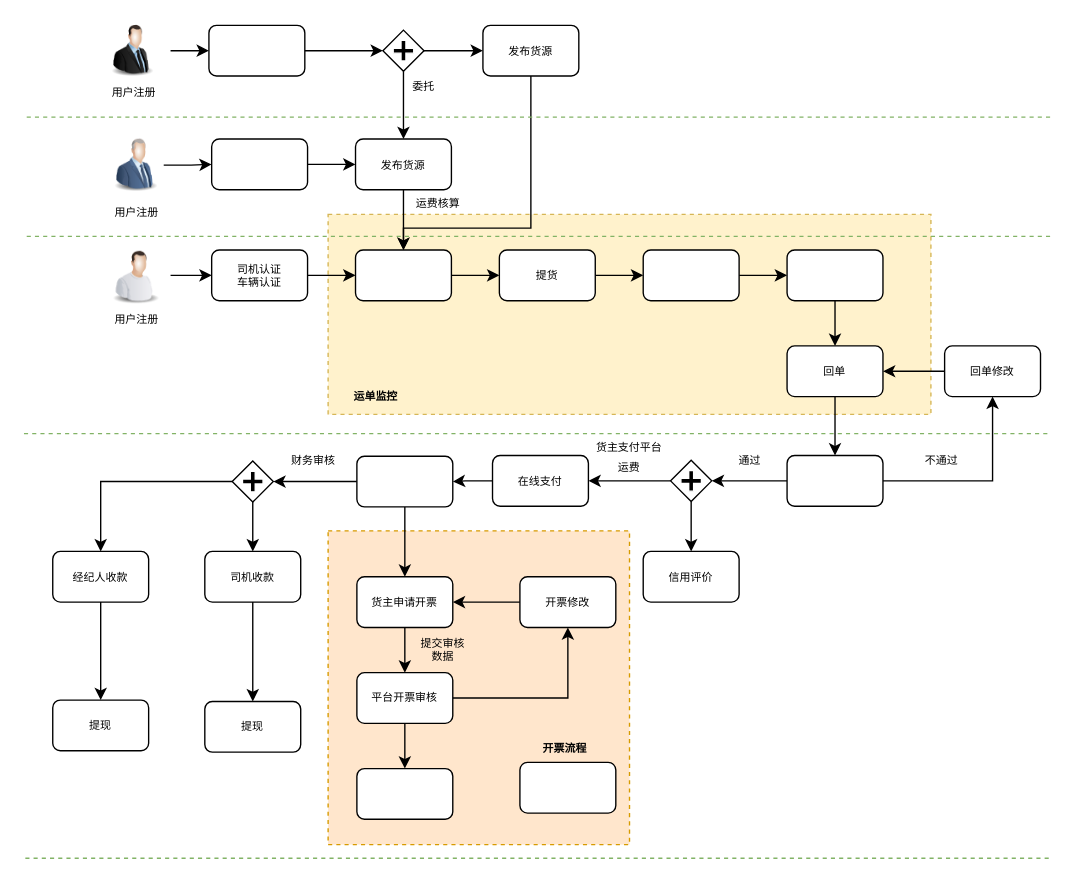
Some shapes in this 1080 by 884 pixel diagram are drawn without their labels. The box of each missing label's shape, as (x1, y1, x2, y2) in pixels:
企业货主认证: (208, 24, 305, 76)
司机接单: (354, 249, 451, 301)
平台收款: (356, 455, 453, 507)
开票/邮寄: (356, 767, 453, 819)
税率管理: (519, 761, 616, 813)
经纪人认证: (210, 138, 308, 190)
货主回单审核: (786, 454, 883, 506)
运抵: (786, 249, 883, 301)
运输轨迹: (642, 249, 739, 301)
